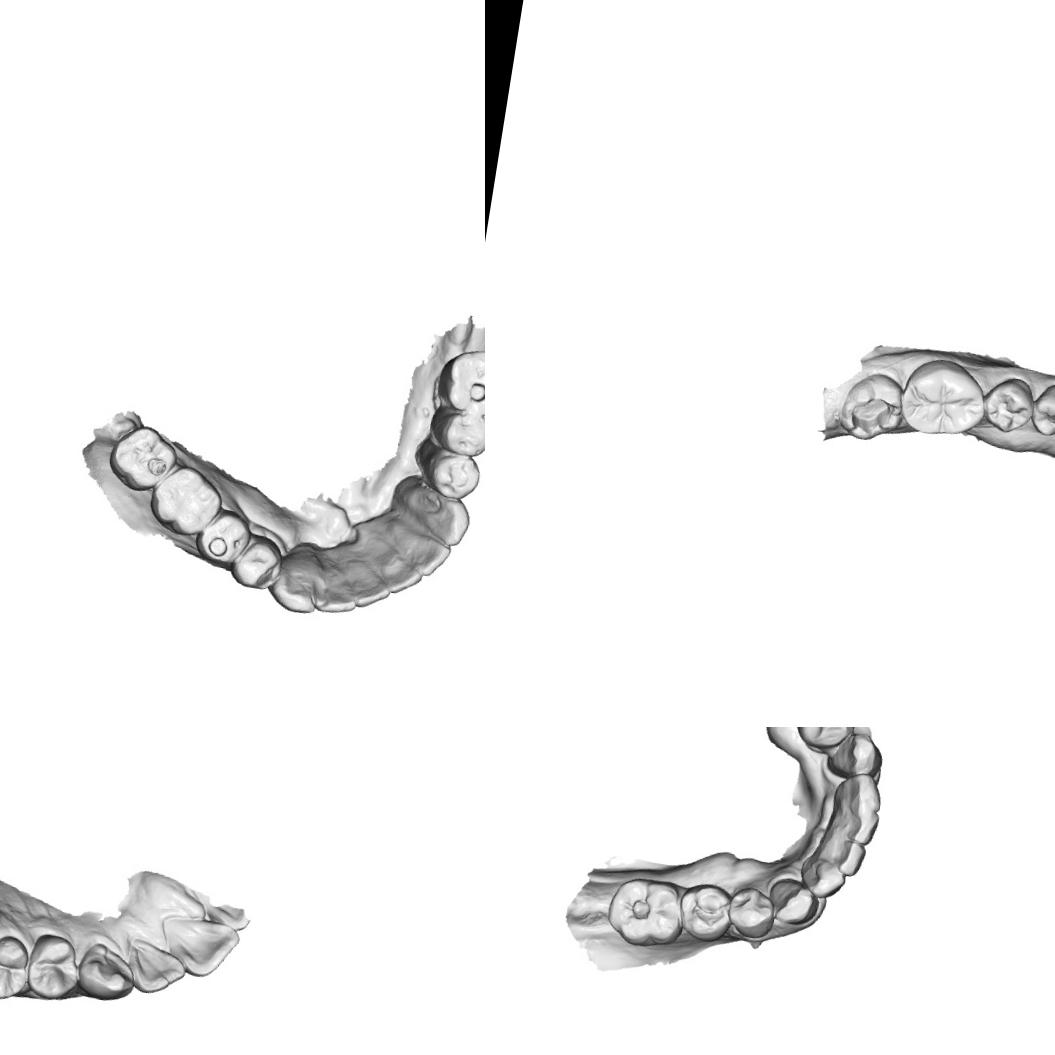canine: (264, 543, 331, 618), (400, 487, 476, 550), (74, 938, 138, 1006), (824, 728, 884, 780), (766, 876, 822, 928)
incisor: (151, 906, 245, 984), (122, 934, 190, 1000), (307, 546, 368, 618), (339, 543, 399, 614), (828, 768, 884, 822), (398, 531, 454, 582), (370, 546, 424, 598), (795, 852, 848, 903), (812, 830, 868, 878), (825, 801, 881, 846)
molar: (894, 352, 992, 442), (601, 870, 691, 954), (144, 460, 228, 542), (103, 419, 183, 499), (835, 368, 909, 447), (433, 343, 485, 422)
premolar: (22, 929, 86, 1007), (192, 504, 256, 571), (674, 880, 736, 946), (419, 446, 485, 506), (228, 530, 288, 594), (979, 373, 1038, 436), (724, 882, 778, 940), (431, 404, 485, 461), (0, 928, 34, 1005), (793, 727, 857, 755), (1028, 378, 1055, 441)
